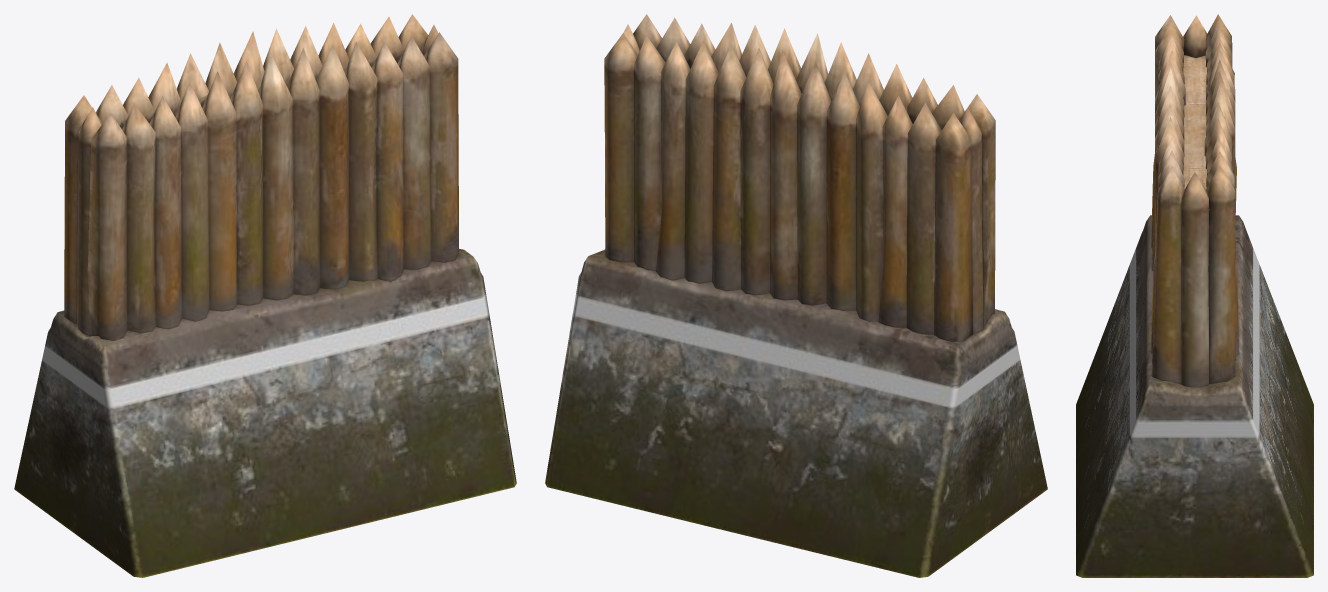
File: 69-stonewall-wall_stone_n_short.glb
3 renders of one model, left to right at view 1: azimuth 30°, elevation 25°; view 2: azimuth 150°, elevation 25°; view 3: azimuth 270°, elevation 25°, orthographic. The views are drawn at different scales.
Size of the model in its own units: 4.4 by 4.89 by 2.52.
Materials: 1 (1 with a texture image).
